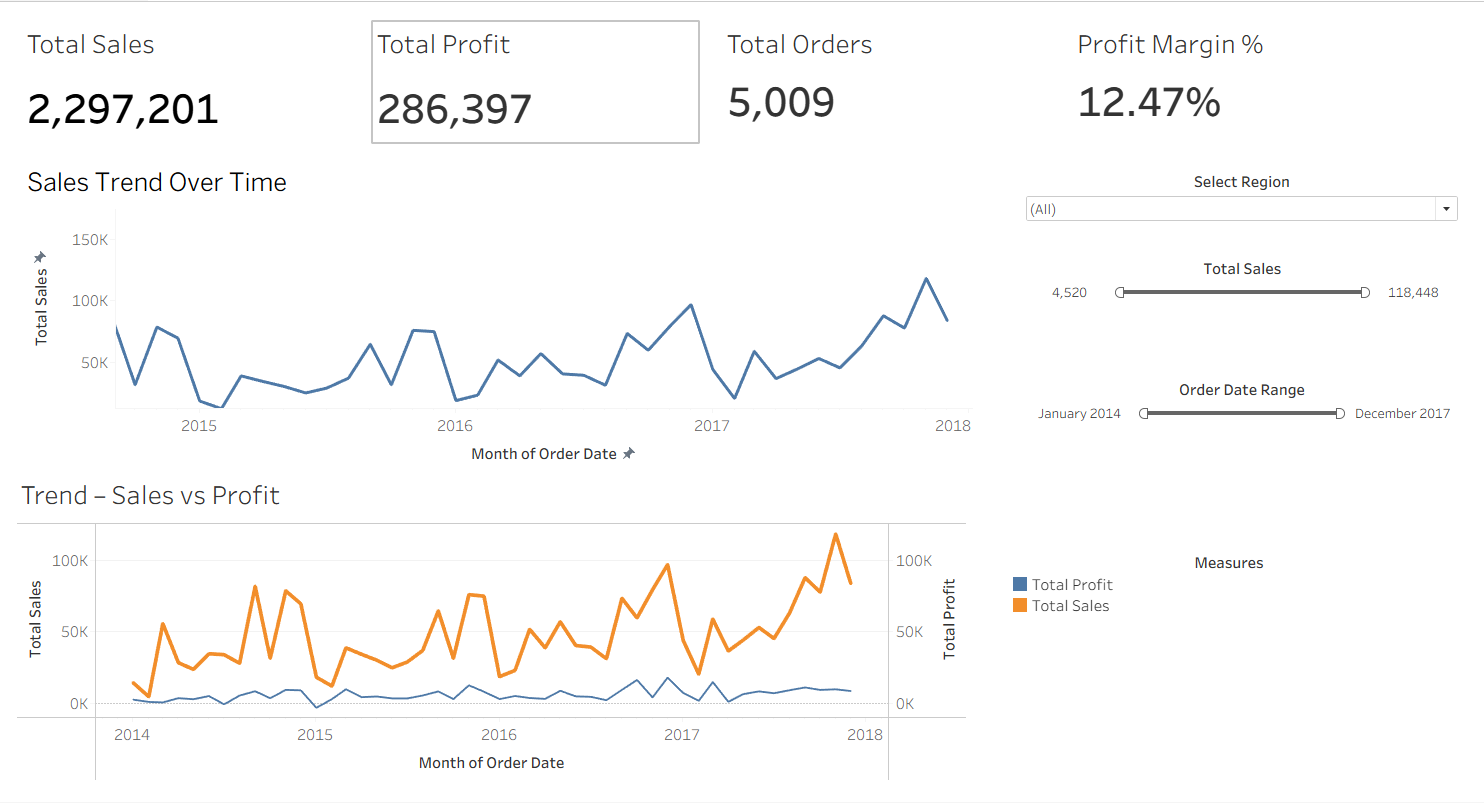

The dashboard page shown, as its layout file describes it:
{"tool":"tableau","page":{"name":"Retail Sales Analytics Dashboard","canvas":[1500,800],"ordinal":0},"visuals":[{"type":"worksheet","title":"KPI – Total Sales","mark":"Automatic","box":[25,20,325,120]},{"type":"worksheet","title":"KPI – Total Profit","mark":"Automatic","box":[375,20,325,120]},{"type":"worksheet","title":"KPI Card: Total Orders","mark":"Automatic","box":[725,20,325,120]},{"type":"worksheet","title":"KPI Card: Profit Margin %","mark":"Automatic","box":[1075,20,325,120]},{"type":"worksheet","title":"Trend – Sales Over Time","mark":"Line","rows":["Calculation_1948634483707904"],"cols":["Order Date"],"box":[25,160,950,309]},{"type":"filter","title":"Trend – Sales Over Time","param":"[federated.0u7ual91wawvl51d7isgp11j0fj3].[none:Region:nk]","box":[1025,169,438,63]},{"type":"filter","title":"Trend – Sales Over Time","param":"[federated.0u7ual91wawvl51d7isgp11j0fj3].[usr:Calculation_1948634483707904:qk]","box":[1030,256,429,65]},{"type":"filter","title":"Trend – Sales Over Time","param":"[federated.0u7ual91wawvl51d7isgp11j0fj3].[tmn:Order Date:qk]","box":[1025,377,438,81]},{"type":"worksheet","title":"Trend – Sales vs Profit","mark":"Automatic","rows":["Calculation_1948634483707904","Calculation_1948634485370883"],"cols":["Order Date"],"box":[19,471,950,308]},{"type":"legend","title":"Trend – Sales vs Profit","param":"[federated.0u7ual91wawvl51d7isgp11j0fj3].[:Measure Names]","box":[1012,550,438,120]}]}

Visuals, with their boxes in screenshot pixels (x1, y1, x2, y2), scaled from the page's 1500x800 canvas onto the 1484x803 screenshot:
"KPI – Total Sales" worksheet: (25,20,346,141)
"KPI – Total Profit" worksheet: (371,20,693,141)
"KPI Card: Total Orders" worksheet: (717,20,1039,141)
"KPI Card: Profit Margin %" worksheet: (1064,20,1385,141)
"Trend – Sales Over Time" worksheet (Line marks): (25,161,965,471)
"Trend – Sales Over Time" filter: (1014,170,1447,233)
"Trend – Sales Over Time" filter: (1019,257,1443,322)
"Trend – Sales Over Time" filter: (1014,378,1447,460)
"Trend – Sales vs Profit" worksheet: (19,473,959,782)
"Trend – Sales vs Profit" legend: (1001,552,1435,673)
